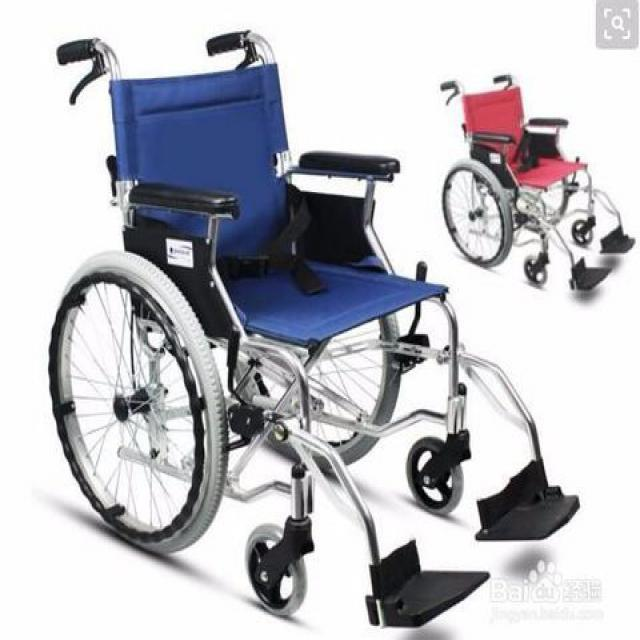wheelchairs: (47, 33, 581, 625), (437, 76, 634, 294)
